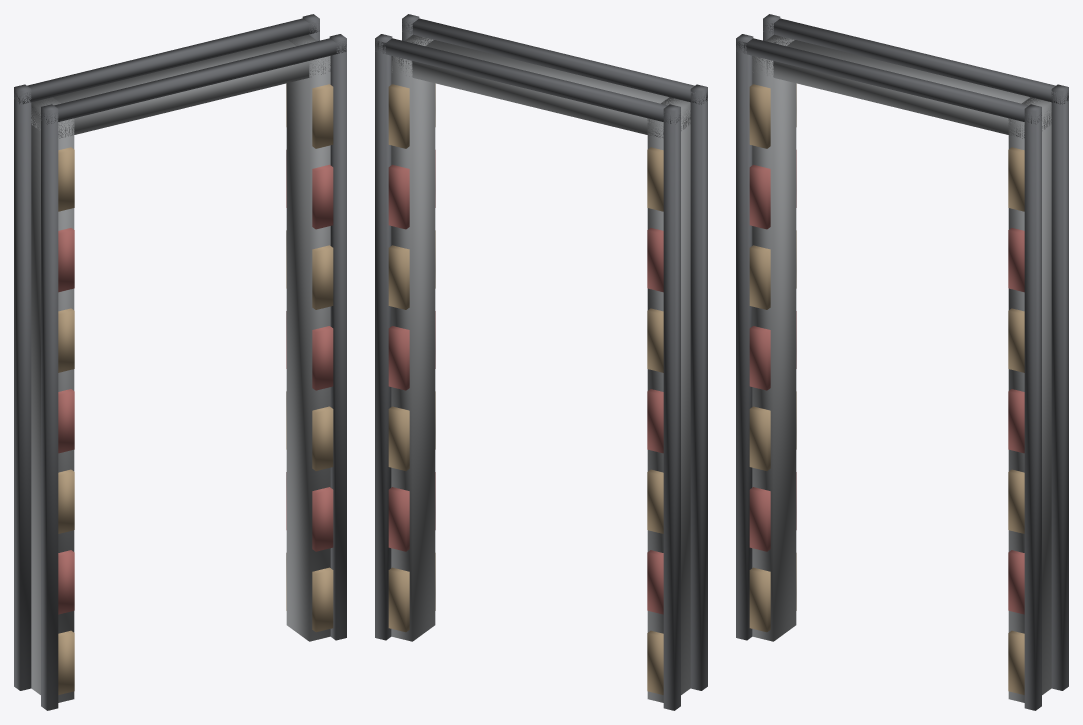
The model's file is doorway_brick_return_w96_h220_d16.glb.
The picture shows the model from 3 angles, left to right: view 1: azimuth 30°, elevation 25°; view 2: azimuth 150°, elevation 25°; view 3: azimuth 330°, elevation 25°; orthographic projection.
Visible parts, largest first — view 1: world; view 2: world; view 3: world.
Part boxes in pixels (<box>): world: <box>14,14,346,710</box>; world: <box>375,14,707,710</box>; world: <box>736,14,1068,710</box>.
Size of the model in its own units: 1.22 by 2.34 by 0.2365.
